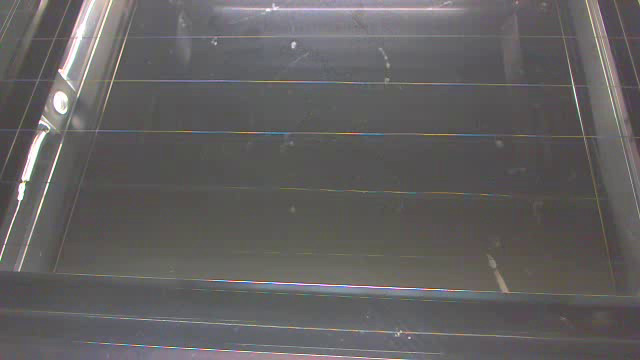alpha: (485, 250, 509, 294), (288, 38, 301, 50)
